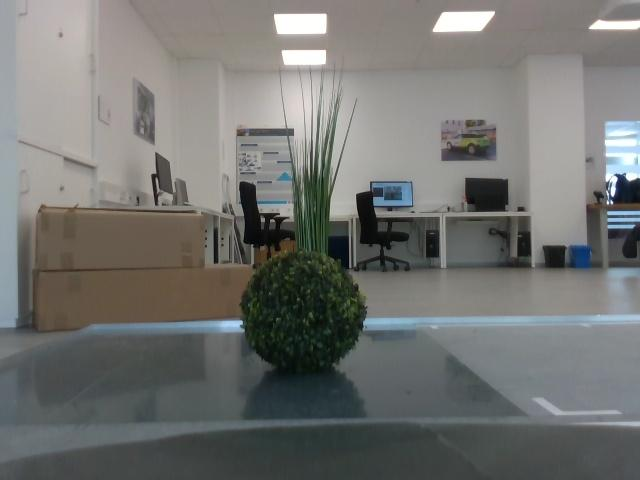potted plant: (277, 73, 362, 255), (245, 256, 368, 377)
